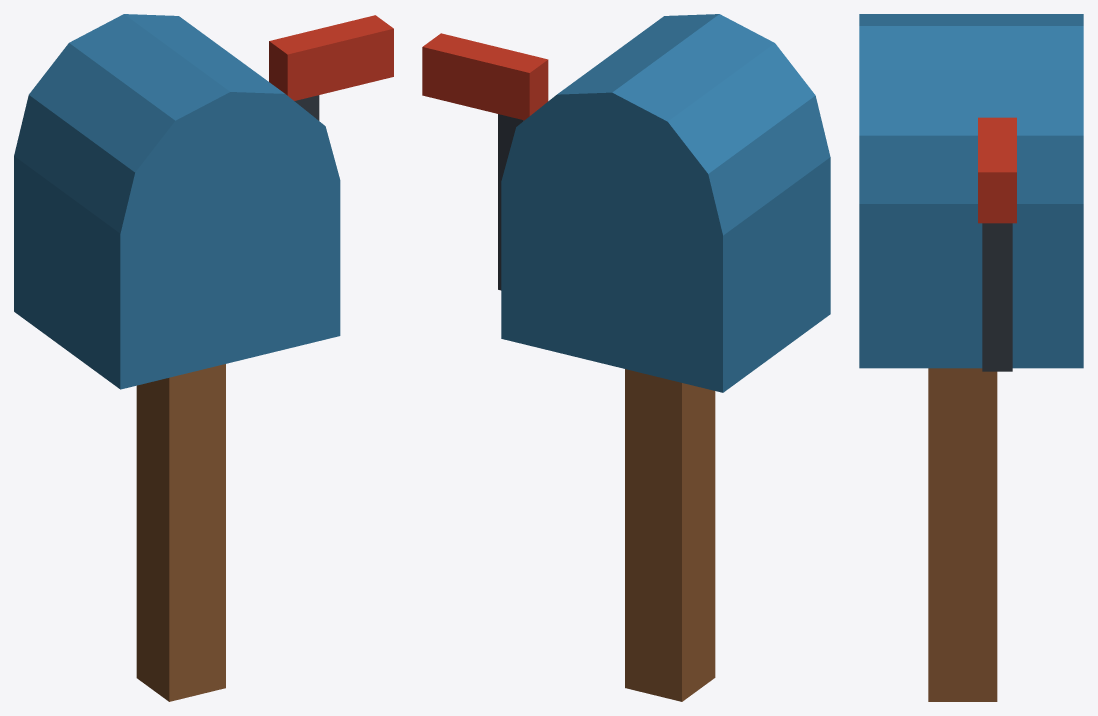
Rendered from mailbox_residential.glb.
3 renders of one model, left to right at view 1: azimuth 30°, elevation 25°; view 2: azimuth 150°, elevation 25°; view 3: azimuth 270°, elevation 25°, orthographic. The views are drawn at different scales.
Parts seen in each view (by area): view 1: Prop_Mailbox_Residential_Blue, Prop_Mailbox_Residential_Wood, Prop_Mailbox_Residential_Red; view 2: Prop_Mailbox_Residential_Blue, Prop_Mailbox_Residential_Wood, Prop_Mailbox_Residential_Red, Prop_Mailbox_Residential_Metal; view 3: Prop_Mailbox_Residential_Blue, Prop_Mailbox_Residential_Wood, Prop_Mailbox_Residential_Metal, Prop_Mailbox_Residential_Red.
Boxes of the visible parts, x1,y1,x2,y2 form: Prop_Mailbox_Residential_Blue: [14, 14, 340, 389]; Prop_Mailbox_Residential_Wood: [136, 364, 225, 701]; Prop_Mailbox_Residential_Red: [269, 15, 393, 100]; Prop_Mailbox_Residential_Blue: [501, 14, 830, 392]; Prop_Mailbox_Residential_Wood: [625, 369, 715, 701]; Prop_Mailbox_Residential_Red: [422, 33, 548, 120]; Prop_Mailbox_Residential_Metal: [498, 114, 524, 290]; Prop_Mailbox_Residential_Blue: [859, 14, 1083, 368]; Prop_Mailbox_Residential_Wood: [928, 368, 997, 701]; Prop_Mailbox_Residential_Metal: [982, 223, 1012, 371]; Prop_Mailbox_Residential_Red: [978, 117, 1016, 223].
Size of the model in its own units: 0.93 by 1.69 by 0.52.
